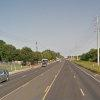Tree: (4, 32, 38, 62)
